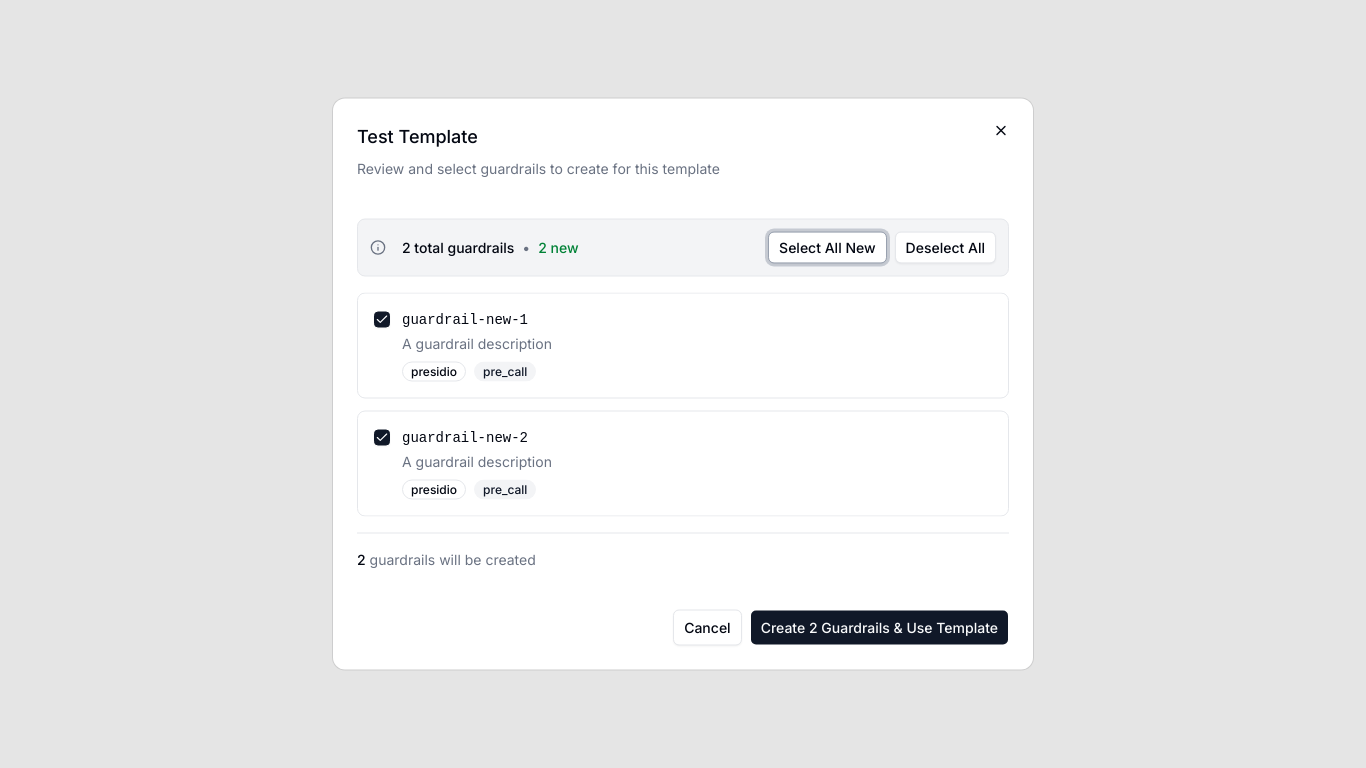
it: GuardrailSelectionModal › should re-select all new guardrails when 'Select All New' is clicked after deselecting
Expected: the text "guardrail-new-1" is shown, [402,310,528,330]
Click the button "Deselect All".
click(945, 248)  # box [895,232,996,264]
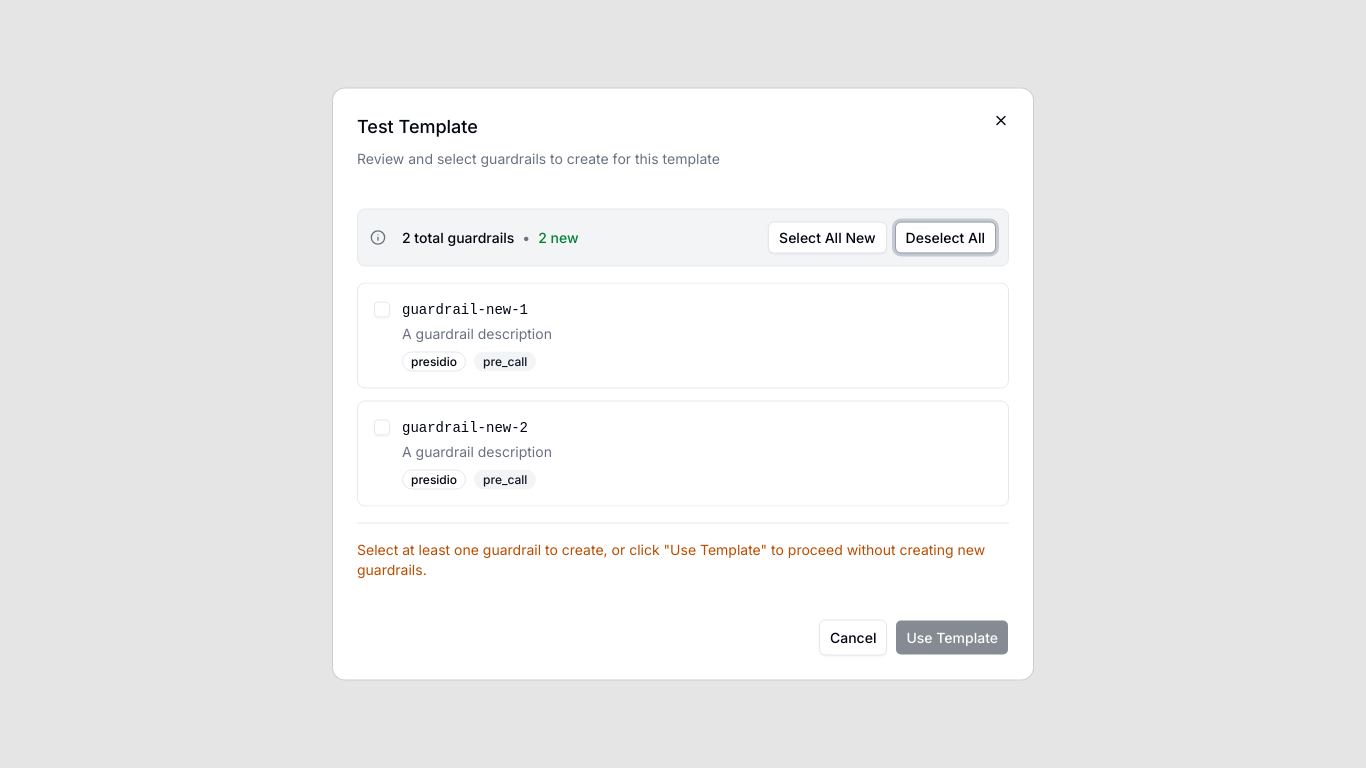
Click the button "Select All New".
click(827, 238)  # box [768,222,887,254]
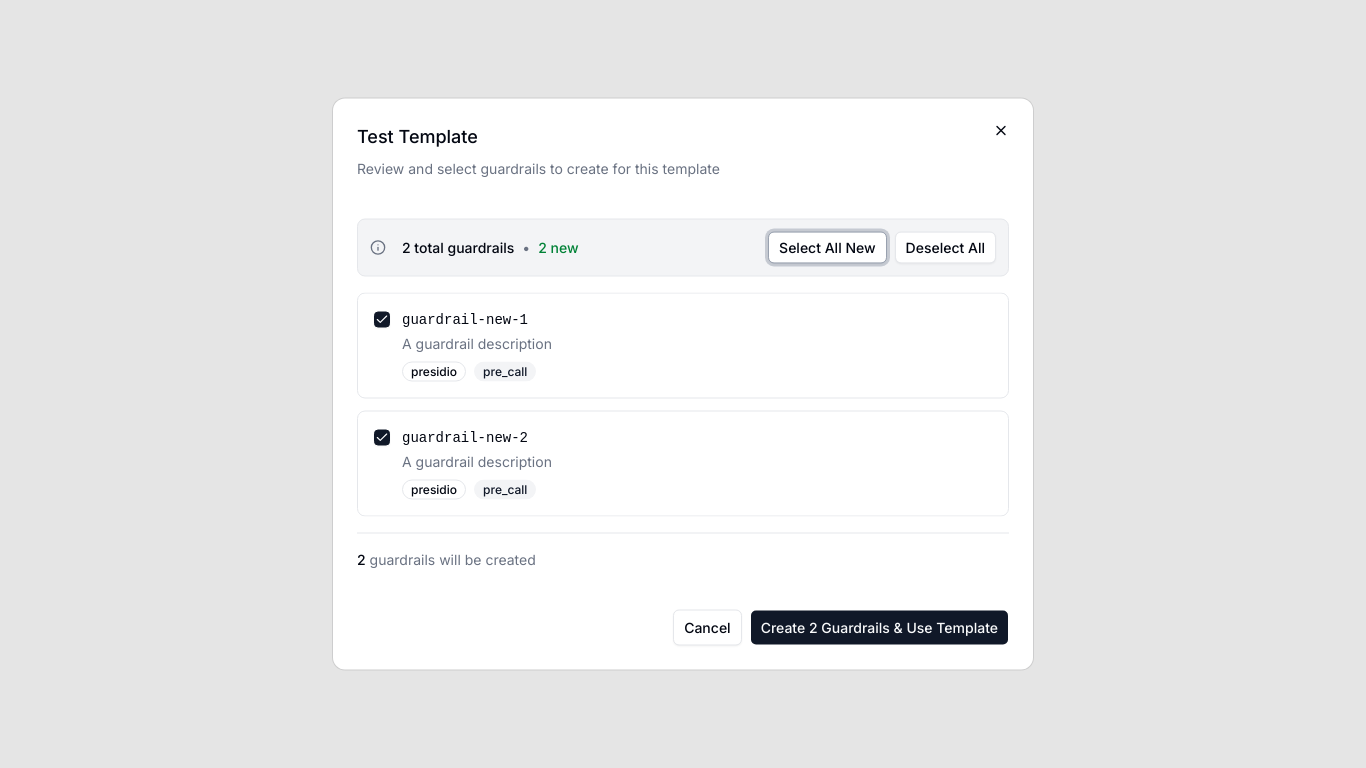
Result: the checkbox next to "guardrail-new-1" is checked at [374,312,390,328]
Result: the checkbox next to "guardrail-new-2" is checked at [374,430,390,446]
